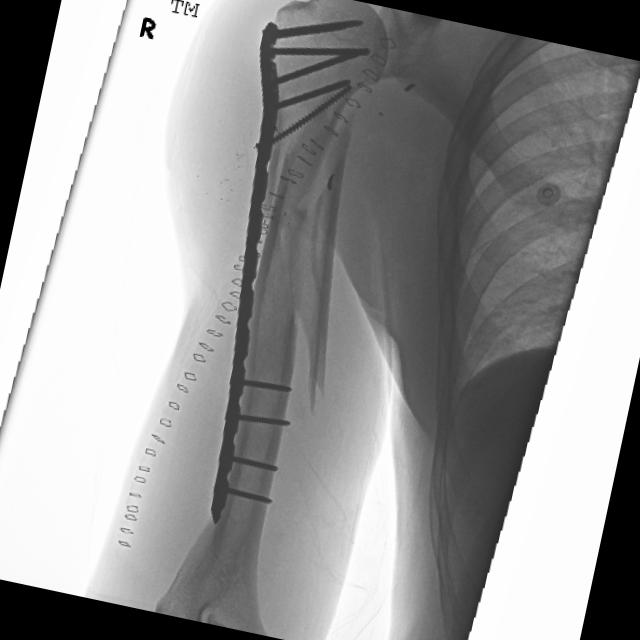humerus fracture: (274, 258, 369, 448)
